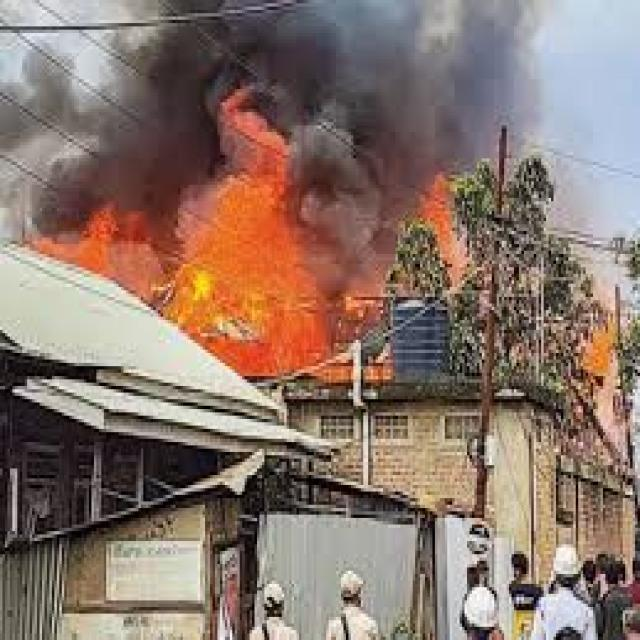Fire: (178, 137, 328, 346), (42, 198, 208, 306)
Smoke: (228, 0, 554, 188), (2, 5, 218, 216), (318, 165, 404, 272)
